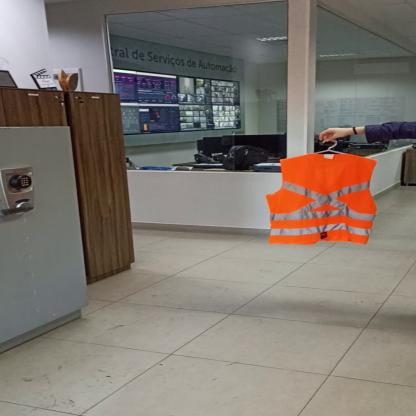colete: (264, 152, 378, 247)
